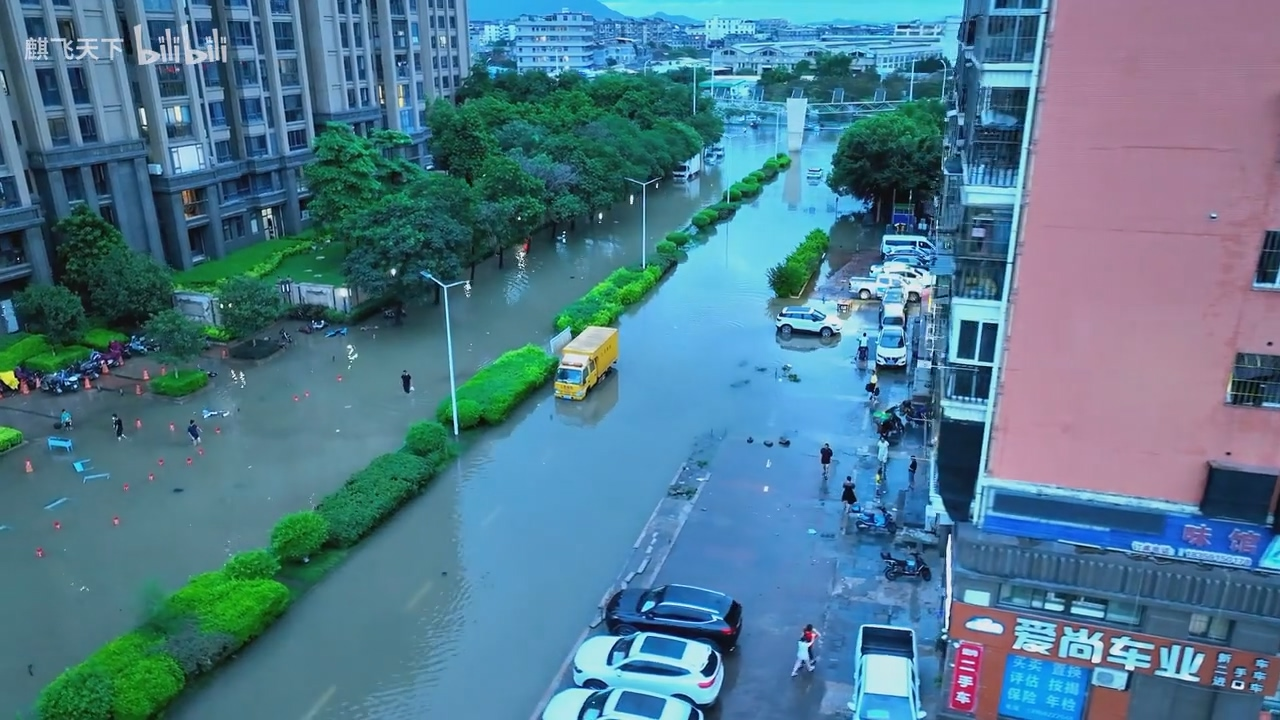puddle: (64, 333, 635, 720)
